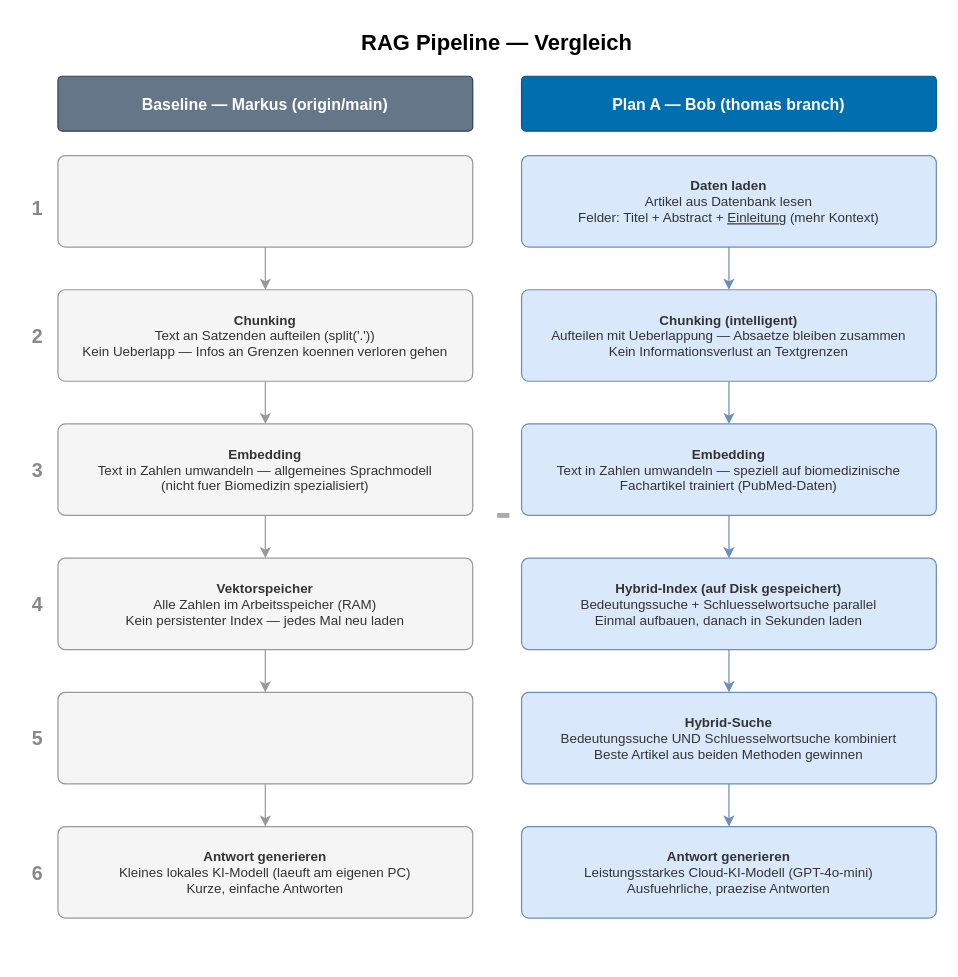
This 958x977 diagram has some shape labels left out. The shapes that lost their labels are listed below. From the top down, each one's box as (x1, y1, x2, y2) in pixels, then its label:
(57, 154, 473, 247): Daten laden Artikel aus Datenbank lesen Felder: Titel + Abstract
(57, 691, 473, 784): Suche Aehnlichkeit zu Anfrage berechnen Einfache Rangfolge — nur Bedeutungssuche
